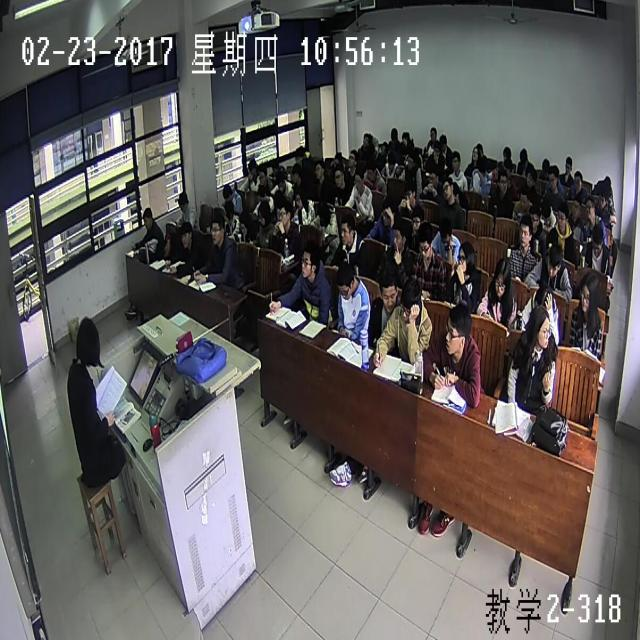person: (444, 304, 472, 356), (75, 314, 101, 365), (529, 303, 552, 348), (578, 270, 600, 316), (379, 269, 400, 312), (335, 261, 357, 301), (402, 279, 422, 322), (493, 259, 512, 301), (301, 240, 320, 280), (534, 280, 554, 318), (545, 242, 563, 282), (391, 221, 410, 254), (457, 242, 476, 275), (517, 215, 533, 251), (417, 223, 432, 261), (437, 215, 453, 249), (340, 214, 356, 246), (381, 198, 398, 227), (210, 213, 224, 245), (590, 224, 604, 256), (409, 206, 424, 234), (154, 235, 170, 261), (178, 219, 192, 248), (257, 200, 271, 228), (278, 202, 292, 228), (238, 208, 250, 237), (528, 204, 540, 233), (476, 158, 488, 185), (442, 174, 454, 200), (404, 182, 415, 209), (317, 199, 328, 225), (556, 202, 566, 230), (571, 196, 582, 221), (273, 190, 285, 212), (450, 147, 461, 171), (518, 188, 530, 210), (540, 202, 552, 224), (547, 166, 558, 190), (584, 194, 595, 218), (177, 189, 188, 212), (333, 167, 345, 188), (498, 168, 508, 193), (598, 185, 608, 210), (525, 167, 536, 189), (223, 200, 233, 224), (428, 164, 438, 188), (518, 144, 528, 168), (142, 207, 152, 230), (221, 182, 232, 202), (290, 162, 300, 184), (354, 169, 364, 191), (364, 160, 375, 180), (246, 157, 256, 178), (492, 160, 502, 181), (331, 150, 342, 169), (437, 133, 448, 152), (502, 144, 513, 163), (346, 147, 356, 166), (540, 156, 550, 175), (573, 169, 582, 190), (276, 171, 285, 191), (294, 190, 304, 208), (314, 160, 324, 178), (385, 151, 395, 169), (406, 151, 416, 169), (431, 141, 441, 159), (503, 158, 512, 178), (564, 154, 573, 174), (258, 165, 267, 184), (471, 144, 480, 163), (295, 145, 305, 162), (389, 125, 398, 143), (257, 185, 267, 201), (270, 156, 278, 175), (429, 125, 437, 143), (602, 176, 611, 192), (380, 140, 388, 156), (362, 132, 369, 149), (476, 140, 482, 159), (401, 128, 408, 143)
